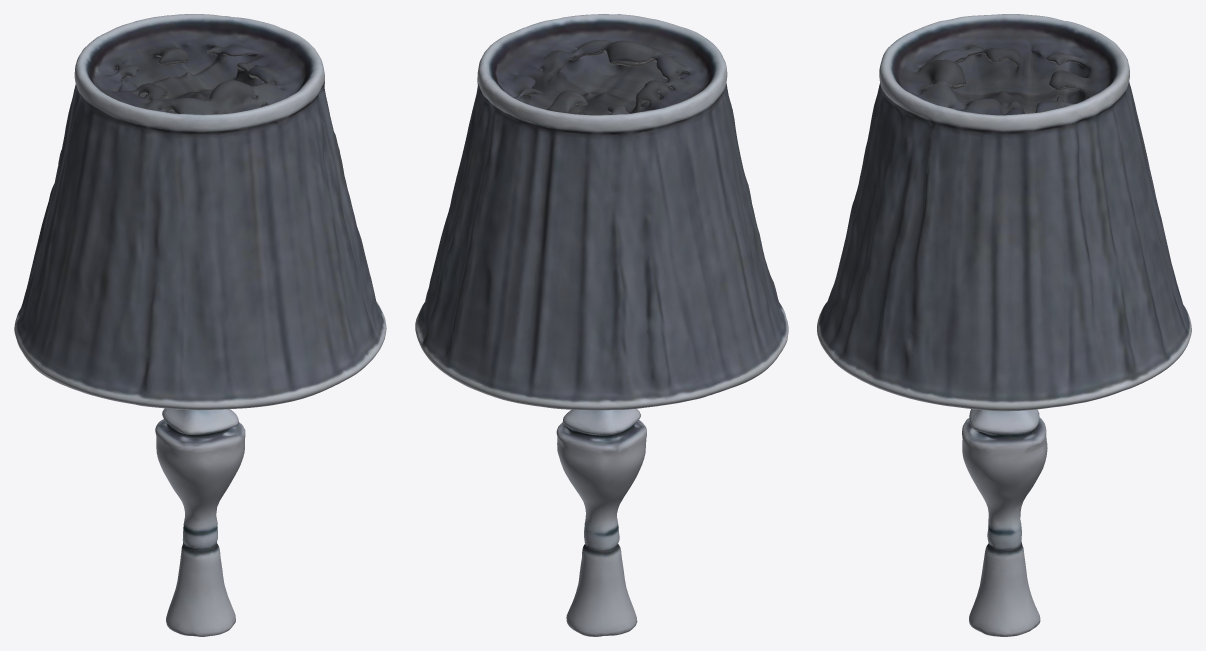
The model's file is 9b6d5109c6a3_lamp__3d_asset_0_gl.fbx.
3 views of the same model, side by side, from view 1: azimuth 30°, elevation 25°; view 2: azimuth 150°, elevation 25°; view 3: azimuth 270°, elevation 25° (orthographic).
Parts seen in each view (by area): view 1: high_poly; view 2: high_poly; view 3: high_poly.
Part boxes in pixels (<box>): high_poly: <box>14,14,386,636</box>; high_poly: <box>415,14,788,636</box>; high_poly: <box>817,14,1191,636</box>.
Size of the model in its own units: 60.51 by 100 by 60.51.
